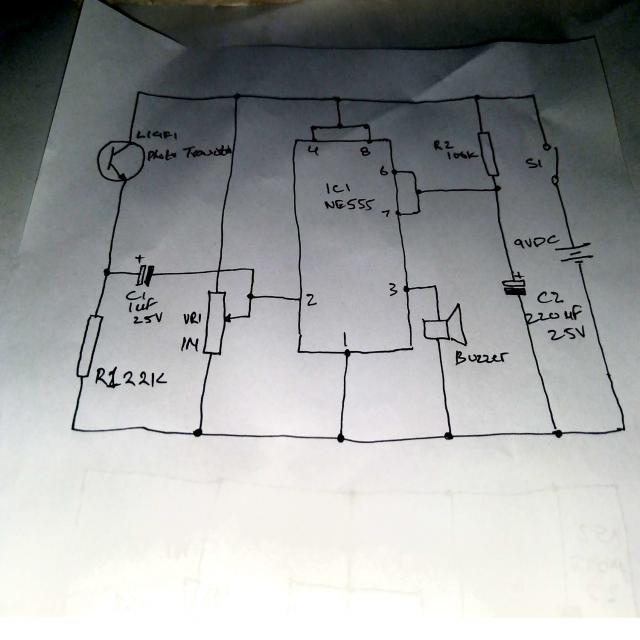capacitor: (501, 270, 527, 298), (135, 254, 155, 288)
crossover: (212, 262, 226, 278)
junction: (134, 87, 144, 99), (553, 428, 563, 440), (414, 206, 424, 218), (414, 186, 424, 198), (492, 183, 502, 195), (527, 90, 537, 102), (332, 92, 342, 104), (232, 91, 242, 102), (102, 266, 112, 277), (472, 92, 482, 103), (363, 120, 373, 131), (248, 264, 257, 276), (246, 289, 255, 301), (193, 426, 202, 438), (430, 280, 439, 292), (409, 167, 418, 179), (335, 120, 344, 132), (245, 309, 254, 320), (69, 423, 78, 434), (336, 432, 345, 443), (444, 429, 453, 440), (619, 422, 628, 433), (309, 122, 318, 133)
resistor: (201, 288, 234, 358), (75, 312, 105, 378), (476, 130, 500, 178)
source: (553, 240, 596, 265)
switch: (541, 142, 563, 188)
text: (525, 289, 586, 341), (322, 181, 376, 214), (94, 365, 168, 389), (124, 288, 163, 326), (147, 143, 233, 160), (431, 138, 480, 162), (454, 347, 508, 368), (512, 234, 560, 250), (136, 128, 177, 141), (180, 333, 200, 353), (182, 309, 203, 326), (525, 155, 544, 171), (305, 291, 318, 308), (307, 142, 320, 158), (387, 281, 398, 298), (359, 144, 371, 158), (341, 329, 349, 348), (379, 208, 392, 219), (379, 165, 388, 178)
transistor: (95, 137, 147, 185)
